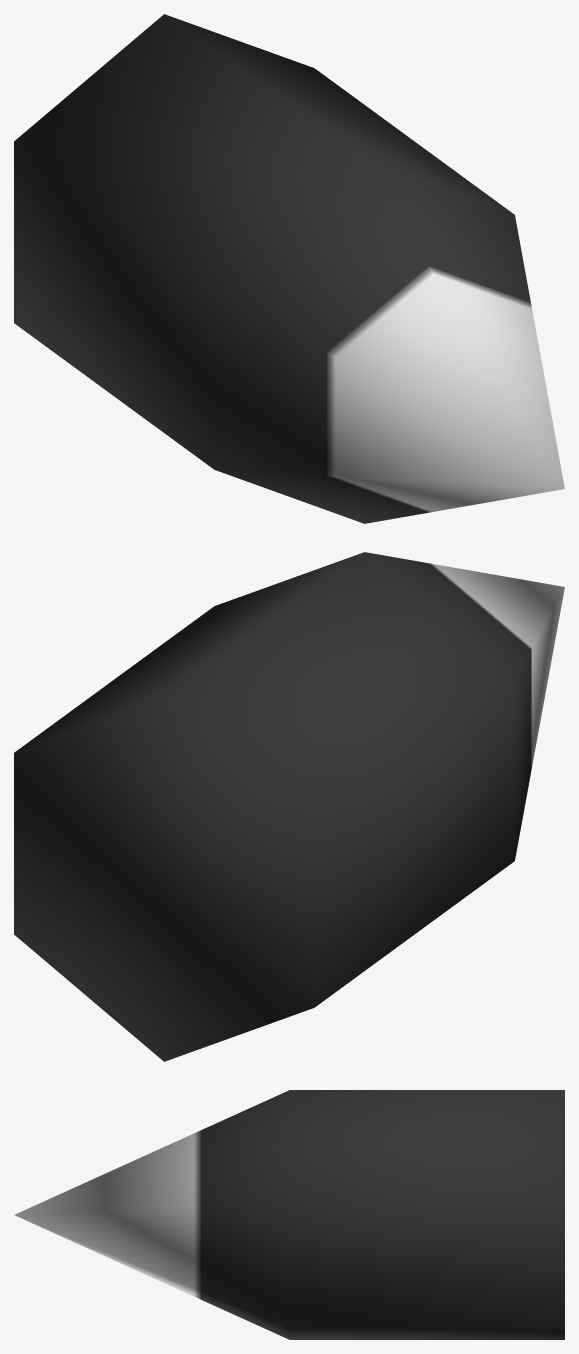
The model's file is SD_Bullet.fbx.
3 renders of one model, top to bottom at view 1: azimuth 30°, elevation 25°; view 2: azimuth 150°, elevation 25°; view 3: azimuth 270°, elevation 25°, orthographic. The views are drawn at different scales.
Parts seen in each view (by area): view 1: SD_Bullet_Base; view 2: SD_Bullet_Base; view 3: SD_Bullet_Base.
Part boxes in pixels (bbox=[...]): SD_Bullet_Base: bbox=[14, 14, 564, 523]; SD_Bullet_Base: bbox=[14, 552, 564, 1061]; SD_Bullet_Base: bbox=[14, 1090, 564, 1339].
Bounding box in the file's own units: 17.32 × 20 × 40.
